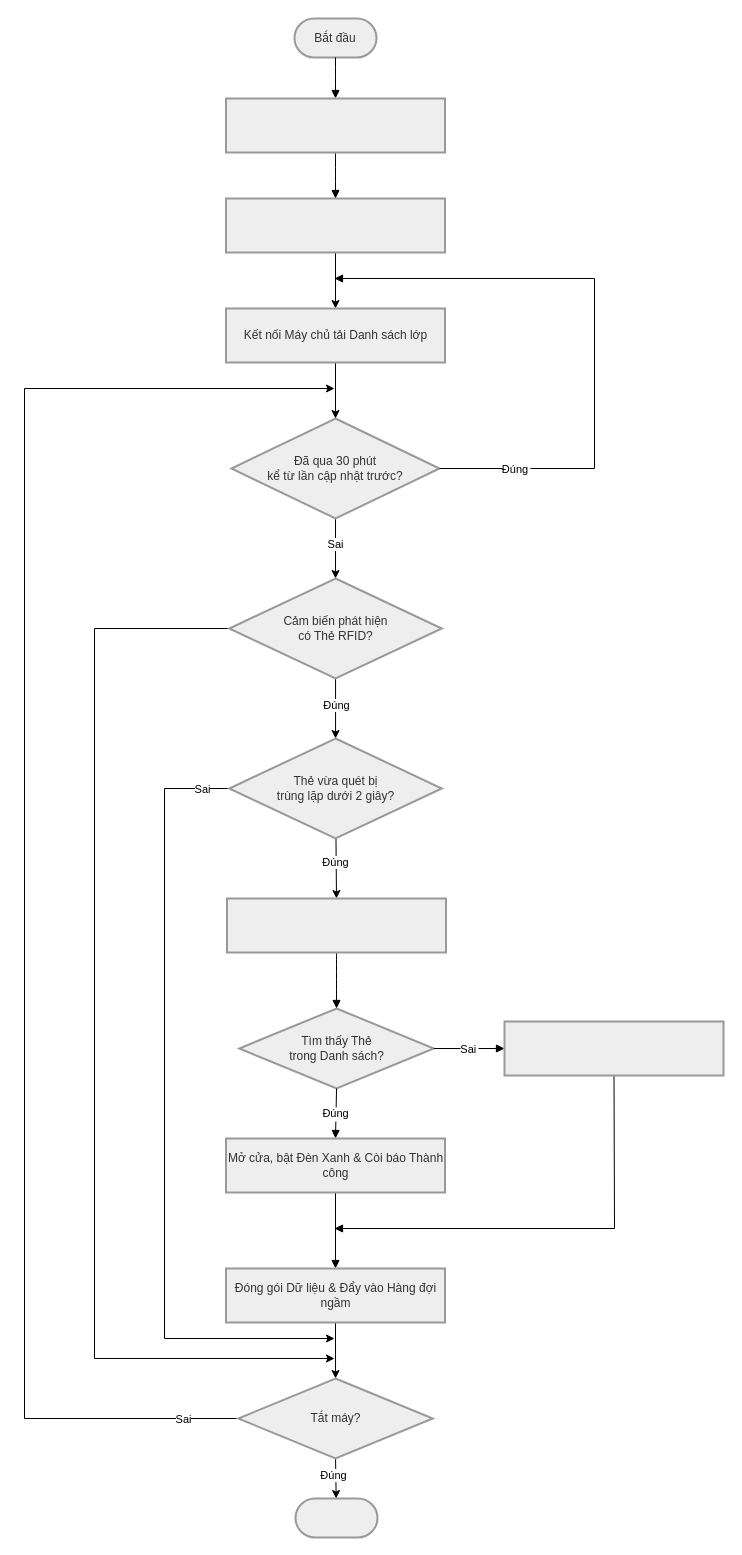
The diagram is 742 pixels wide and 1555 high, and some of its shapes have lost their labels. Here are the shapes that lost their labels. From the top down, the centre of each, then its label:
[335,125]: Khởi tạo Hệ thống, WiFi, Hàng đợi
[335,225]: Lấy Thời gian hiện tại
[336,925]: Tra cứu Mã thẻ trong Bộ nhớ tạm
[613,1048]: Bật Đèn Đỏ & Còi báo Cảnh báo Thẻ lạ
[336,1517]: Kết thúc
